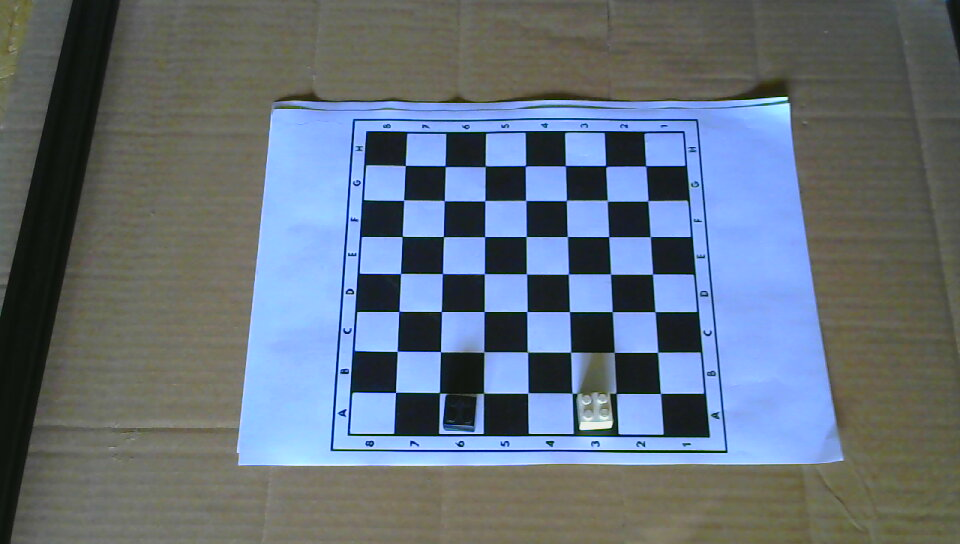bp: (442, 393, 479, 432)
wp: (575, 388, 616, 431)
